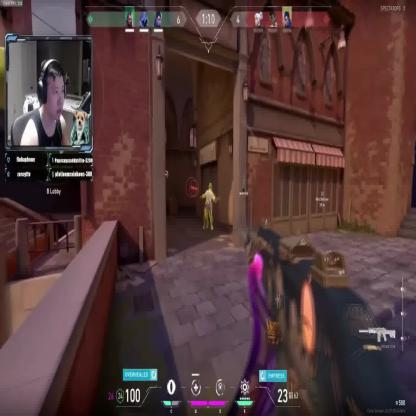enemy: (200, 182, 221, 230)
enemy_head: (208, 183, 212, 191)
